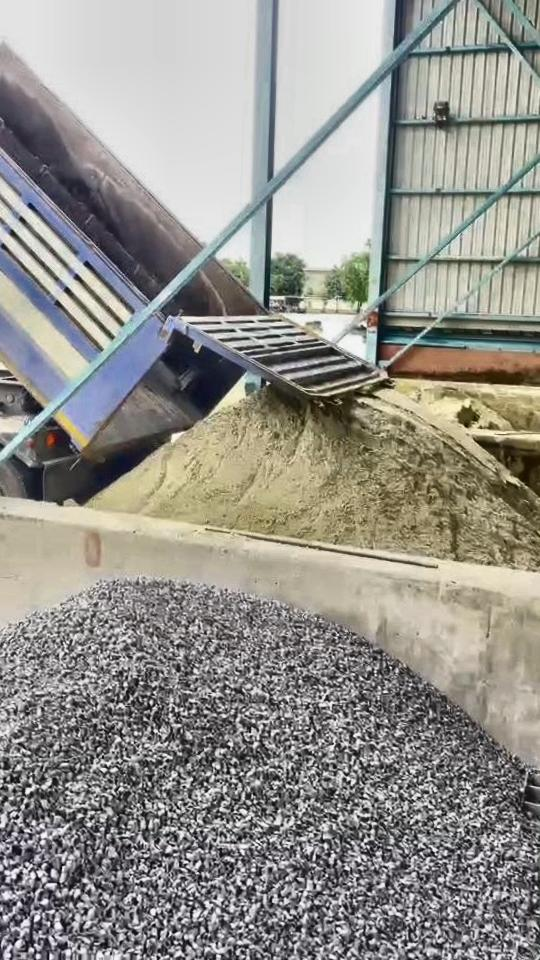gravel: (0, 580, 540, 960)
sand: (91, 389, 540, 573), (418, 394, 511, 429)
